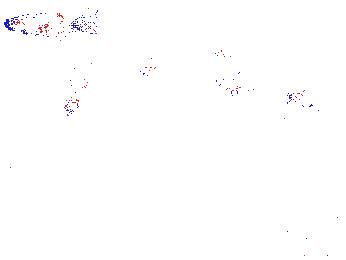X-ray fish: (62, 54, 98, 115)
glassfish: (216, 103, 324, 168)
red belly glassfish: (211, 46, 244, 61)
redtail glassfish: (3, 9, 96, 43), (213, 69, 259, 95), (136, 52, 175, 80)
